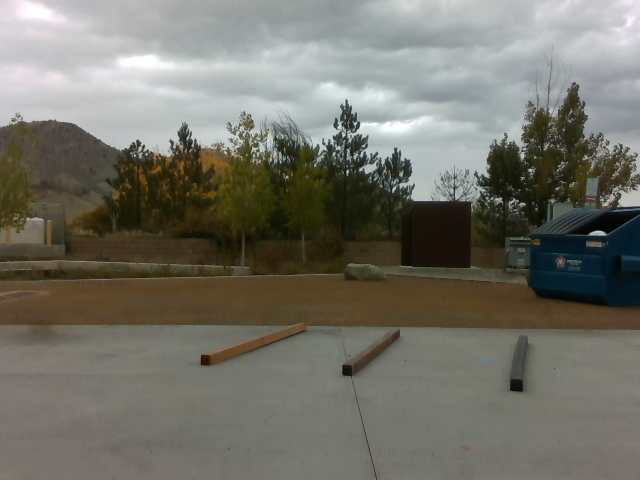dunnage: (199, 309, 537, 399)
